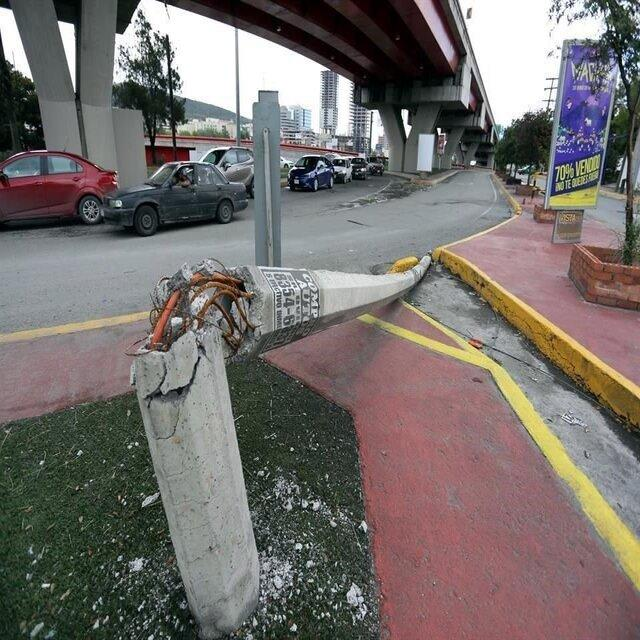Inclined Pole: (126, 252, 433, 635)
